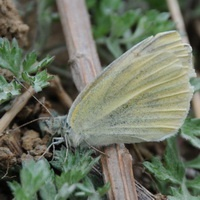insect: (68, 31, 192, 145)
